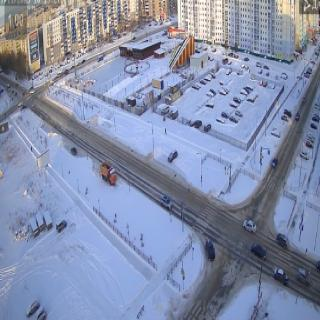large-vehicle: (100, 162, 116, 186)
small-vehicle: (274, 266, 289, 287), (204, 239, 216, 262), (26, 298, 40, 316), (252, 245, 266, 262), (276, 233, 289, 250), (297, 268, 310, 285), (160, 195, 173, 211), (32, 307, 47, 320), (243, 220, 256, 234), (56, 219, 66, 234), (168, 151, 177, 163), (270, 129, 280, 139), (161, 105, 170, 115), (232, 95, 242, 104), (203, 121, 211, 132), (300, 152, 309, 161), (310, 112, 319, 121), (229, 115, 238, 124), (272, 158, 278, 170), (280, 114, 288, 123), (240, 88, 249, 96), (195, 120, 202, 130), (306, 141, 314, 149), (307, 132, 315, 140), (220, 110, 228, 118), (235, 109, 243, 117), (192, 83, 200, 91), (311, 122, 318, 131), (230, 100, 237, 109), (220, 88, 227, 97), (71, 147, 77, 157), (284, 110, 291, 118), (207, 90, 214, 98), (206, 103, 213, 110), (200, 78, 207, 85), (56, 71, 63, 78), (314, 102, 320, 110), (29, 89, 35, 96), (63, 66, 68, 74), (21, 105, 27, 111), (18, 101, 23, 108), (295, 112, 299, 120), (302, 96, 306, 103)
